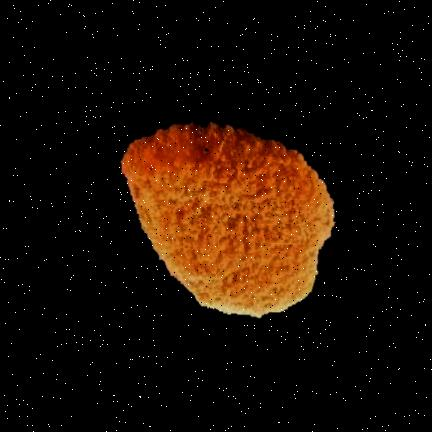chicken: (122, 124, 334, 317)
